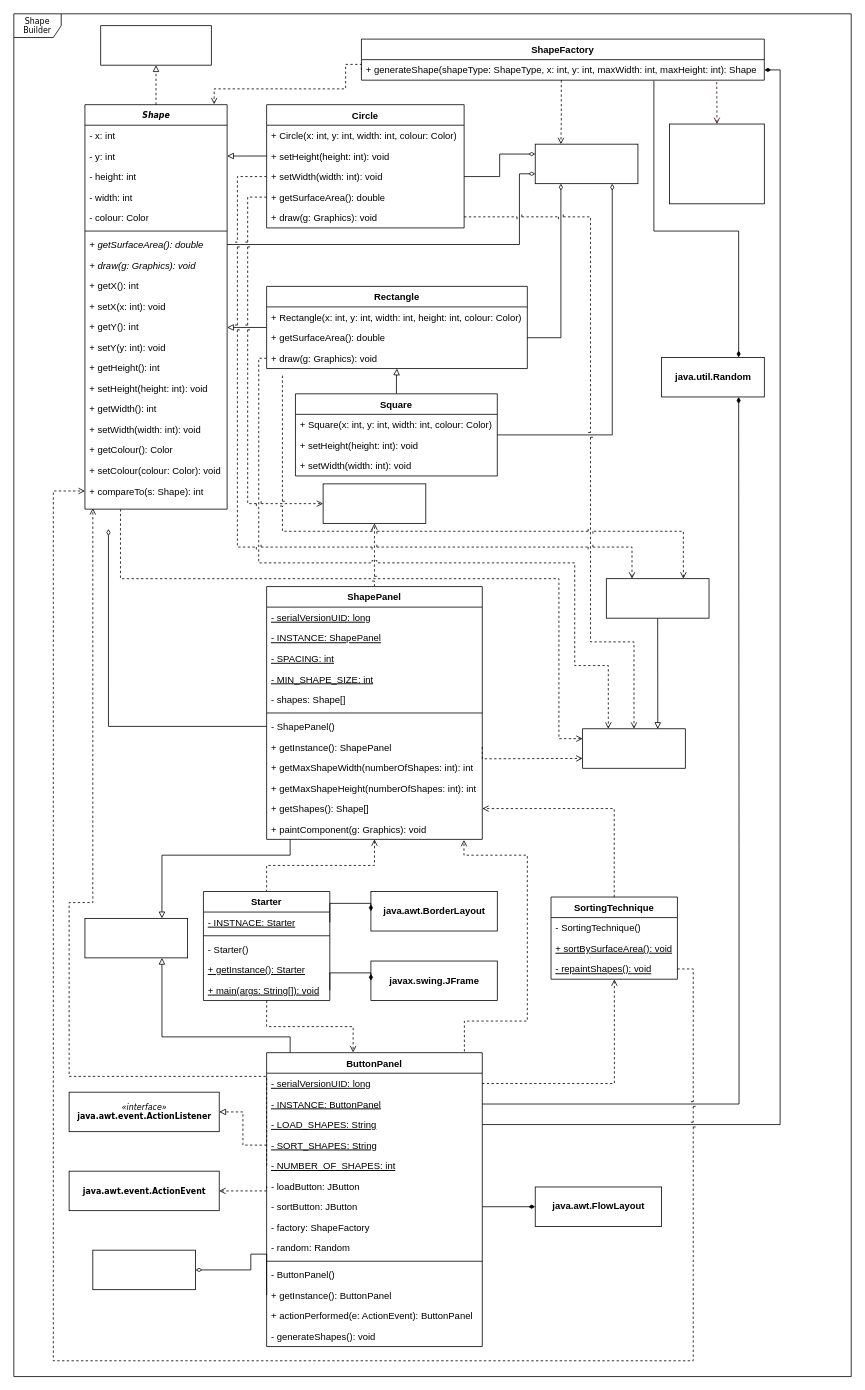
Image size: 865x1390. Some labels were removed from this diagram. The shapes that lost their labels are listed below. From the top down, each one's centre as x and y in pixels, then its label:
At point (155, 45): "«interface» java.lang.Comparable".
At point (586, 163): "java.awt.Color".
At point (716, 163): "<<enumeration>> ShapeType CIRCLE RECTANGLE SQUARE".
At point (374, 503): "java.lang.Math".
At point (657, 598): "java.awt.Graphics2D".
At point (633, 748): "java.awt.Graphics".
At point (136, 938): "javax.swing.JPanel".
At point (144, 1269): "javax.swing.JButton".
